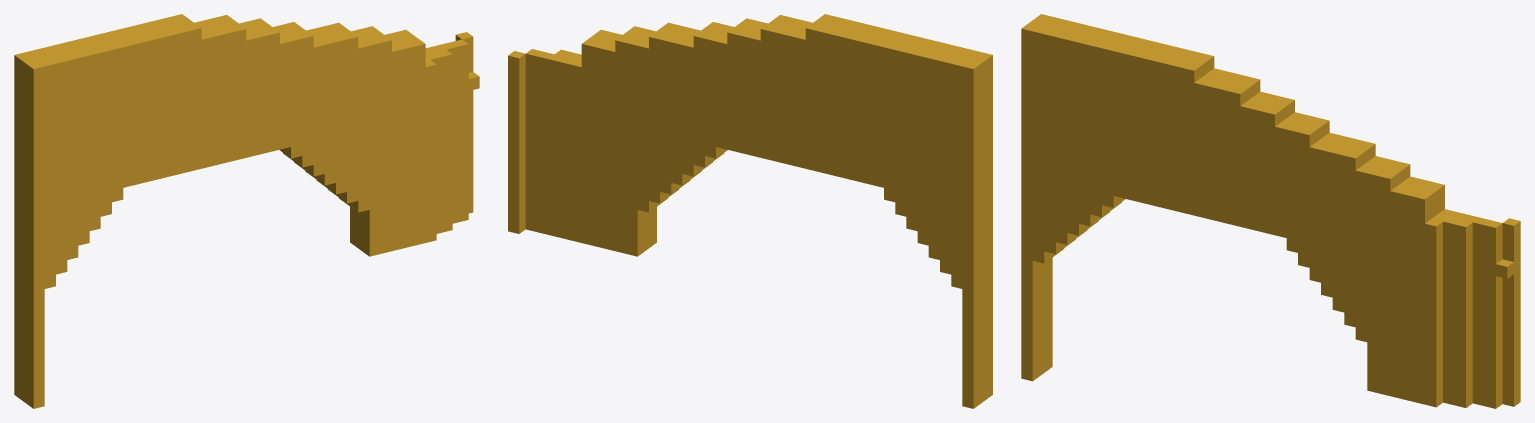
File: food_truck_front_wing.glb
3 views of the same model, side by side, from view 1: azimuth 30°, elevation 25°; view 2: azimuth 150°, elevation 25°; view 3: azimuth 330°, elevation 25° (orthographic). The views are drawn at different scales.
Parts seen in each view (by area): view 1: body:compound; view 2: body:compound; view 3: body:compound.
Part boxes in pixels (x1,y1,x2,y2): body:compound: [14, 14, 479, 408]; body:compound: [508, 14, 992, 408]; body:compound: [1021, 14, 1520, 408].
Size of the model in its own units: 1.28 by 0.9062 by 0.125.
